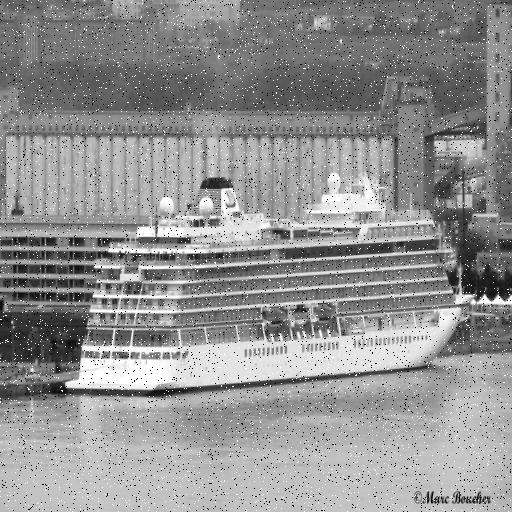cruises: (59, 165, 473, 408)
